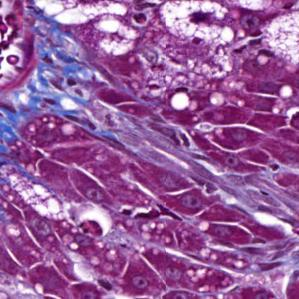ballooning: (159, 1, 235, 49), (31, 1, 130, 28), (262, 9, 299, 73)
